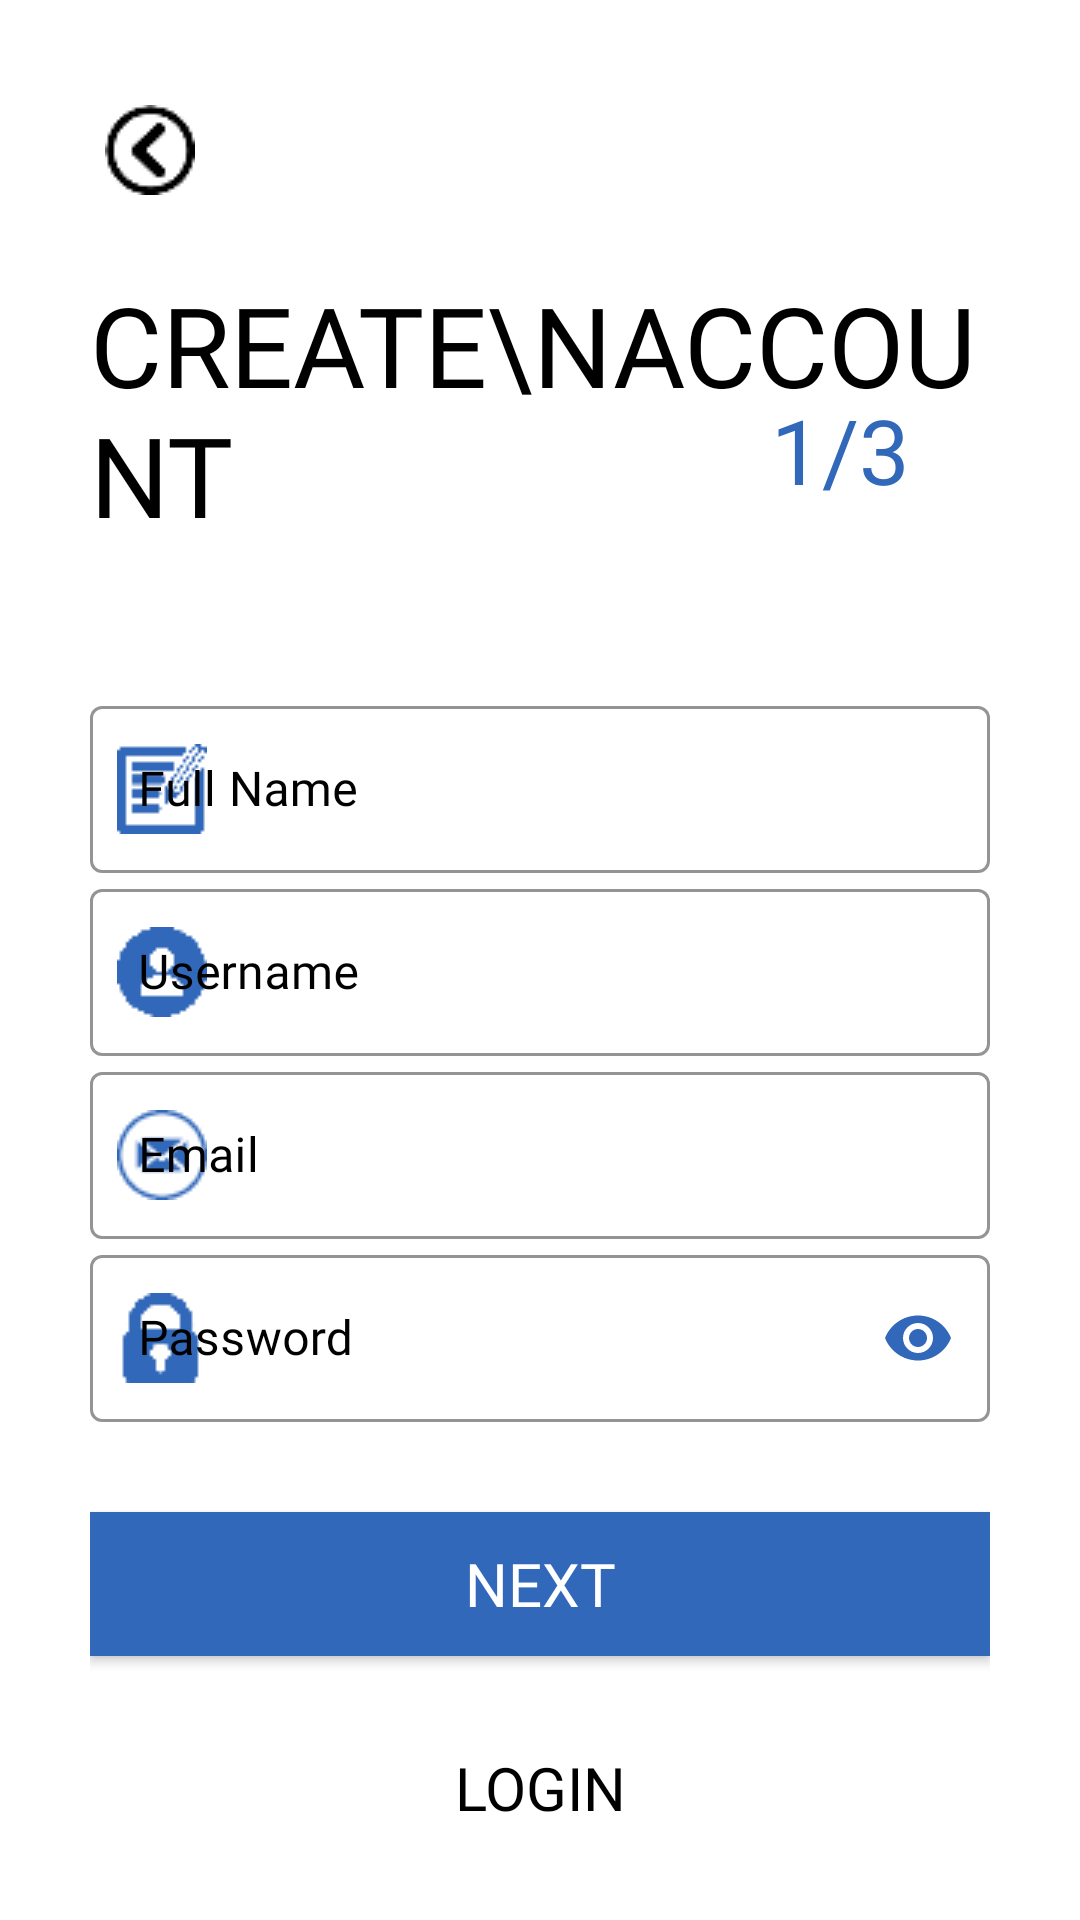

Where to tap for icons on this 1080x1920 app screen, as [x,y]:
backbtn: [150,150]
